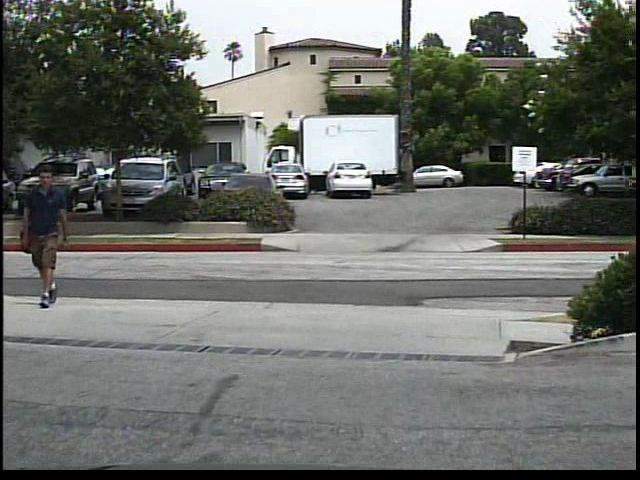person: (22, 163, 75, 312)
